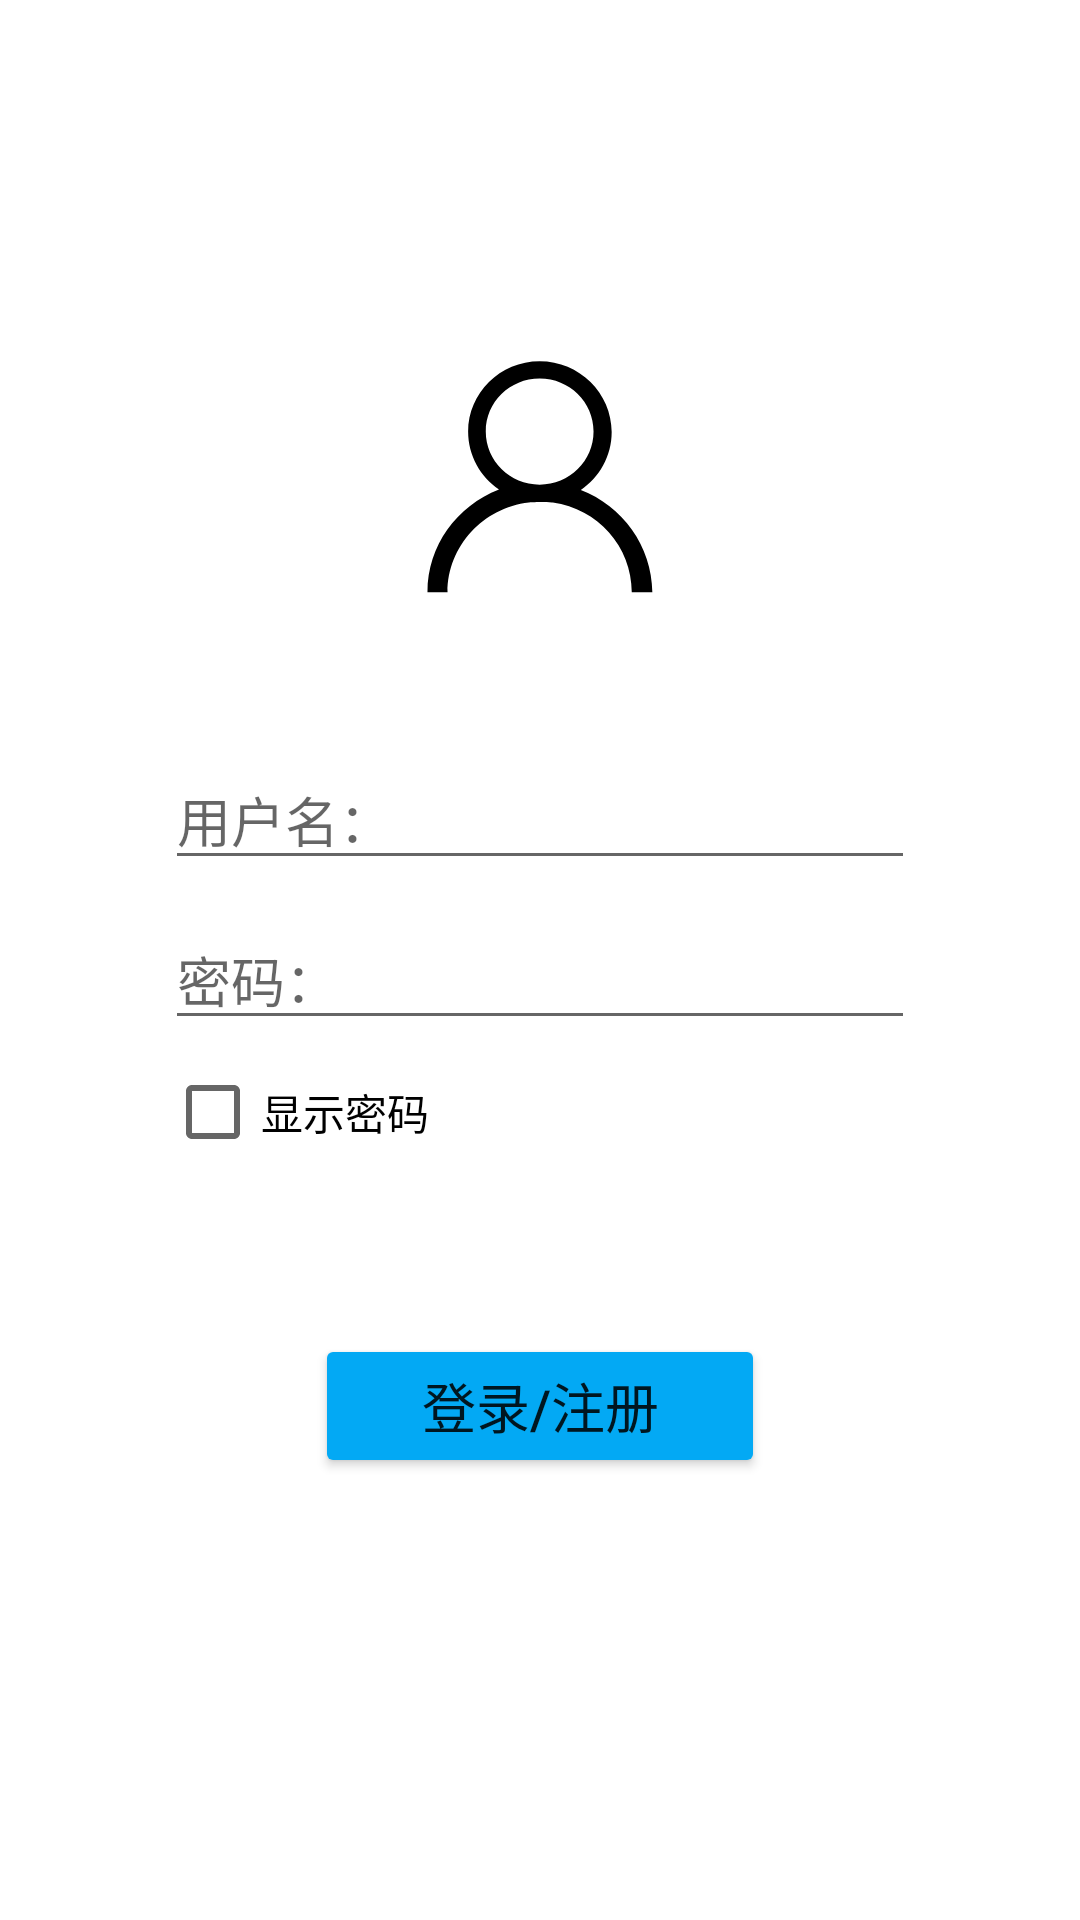

Named icons in this screenshot (1080px x 1920px) and their bounding boxes, (x1, y1, x2, y2):
user avator: (427, 361, 653, 593)
